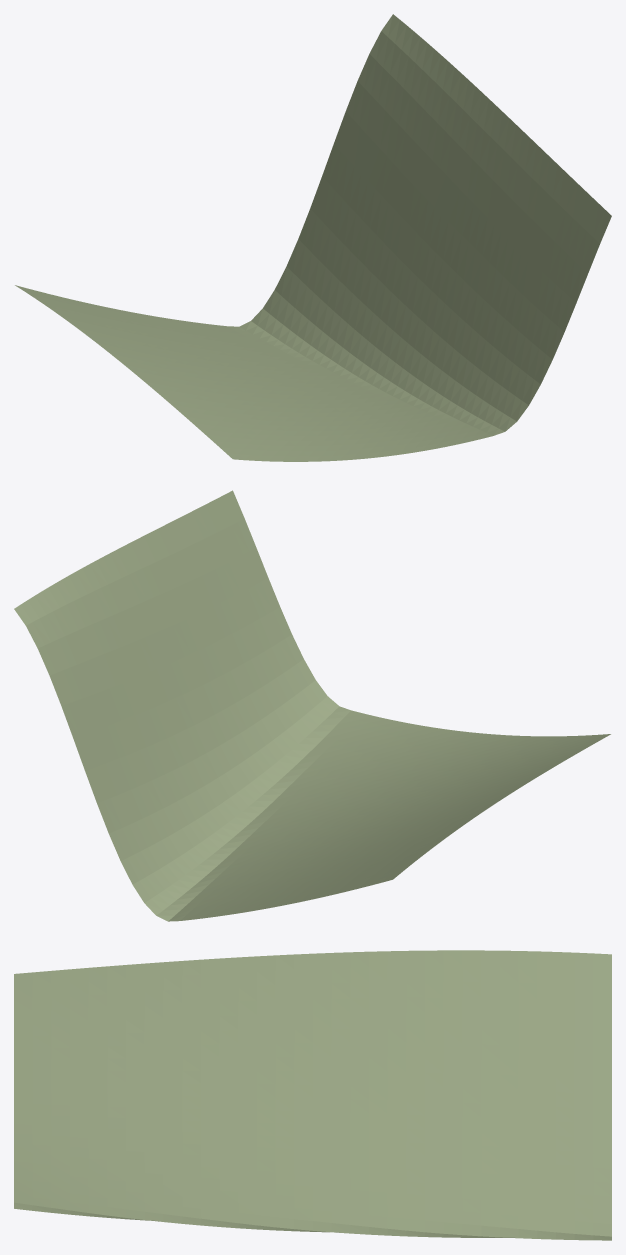
File: alpine-11-7.glb
The picture shows the model from 3 angles, top to bottom: view 1: azimuth 30°, elevation 25°; view 2: azimuth 150°, elevation 25°; view 3: azimuth 270°, elevation 25°; orthographic projection. The views are drawn at different scales.
Parts seen in each view (by area): view 1: alpine-11-7; view 2: alpine-11-7; view 3: alpine-11-7.
Part boxes in pixels (<box>): alpine-11-7: <box>15,14,611,461</box>; alpine-11-7: <box>14,490,610,921</box>; alpine-11-7: <box>14,950,611,1240</box>.
Bounding box in the file's own units: 256 × 177 × 256.
